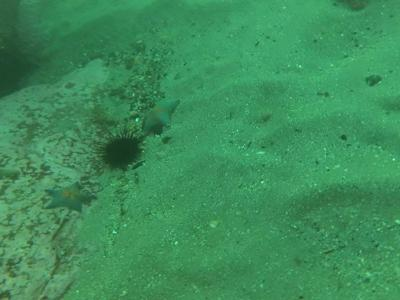urchin: (96, 128, 139, 169)
